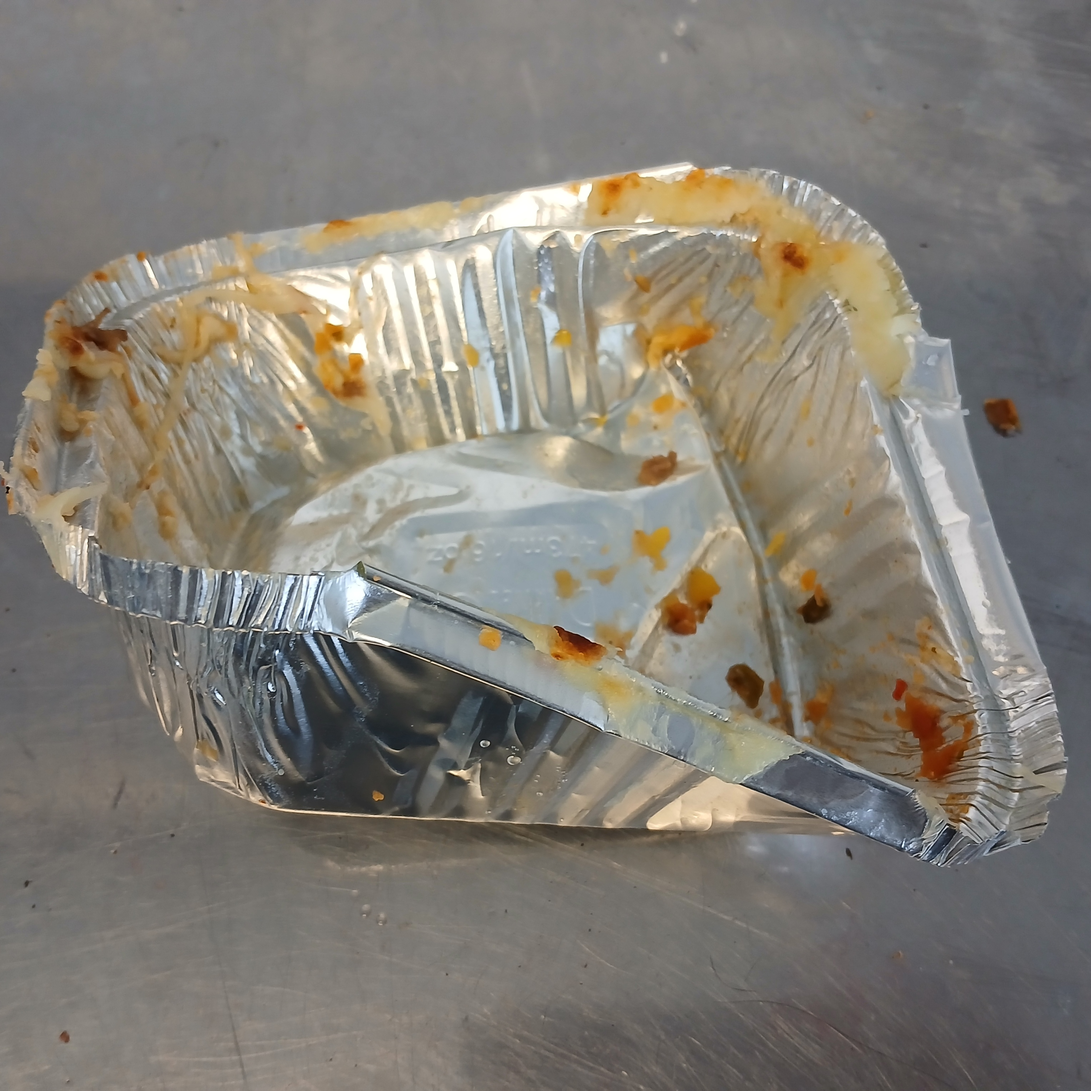Ordinario: (2, 161, 1065, 866)
